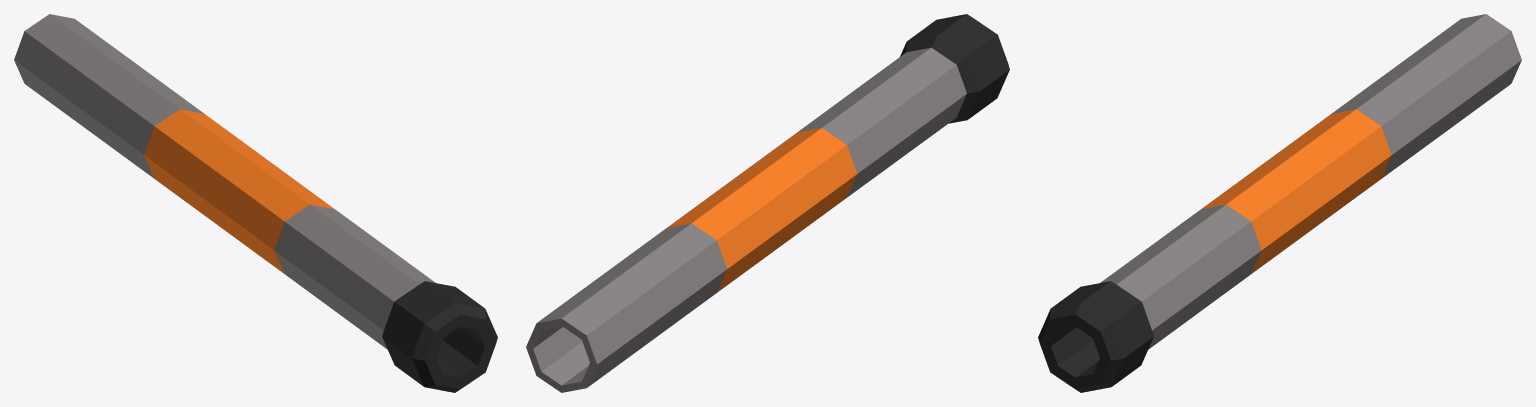
The model's file is scifi-scifi-tube-long.glb.
The picture shows the model from 3 angles, left to right: view 1: azimuth 30°, elevation 25°; view 2: azimuth 150°, elevation 25°; view 3: azimuth 330°, elevation 25°; orthographic projection.
Parts seen in each view (by area): view 1: scifi-tube-long; view 2: scifi-tube-long; view 3: scifi-tube-long.
Boxes of the visible parts, left/top/right/bottom form: scifi-tube-long: left=14, top=14, right=497, bottom=392; scifi-tube-long: left=526, top=14, right=1009, bottom=392; scifi-tube-long: left=1038, top=14, right=1521, bottom=392.
Size of the model in its own units: 0.242 by 0.242 by 2.
